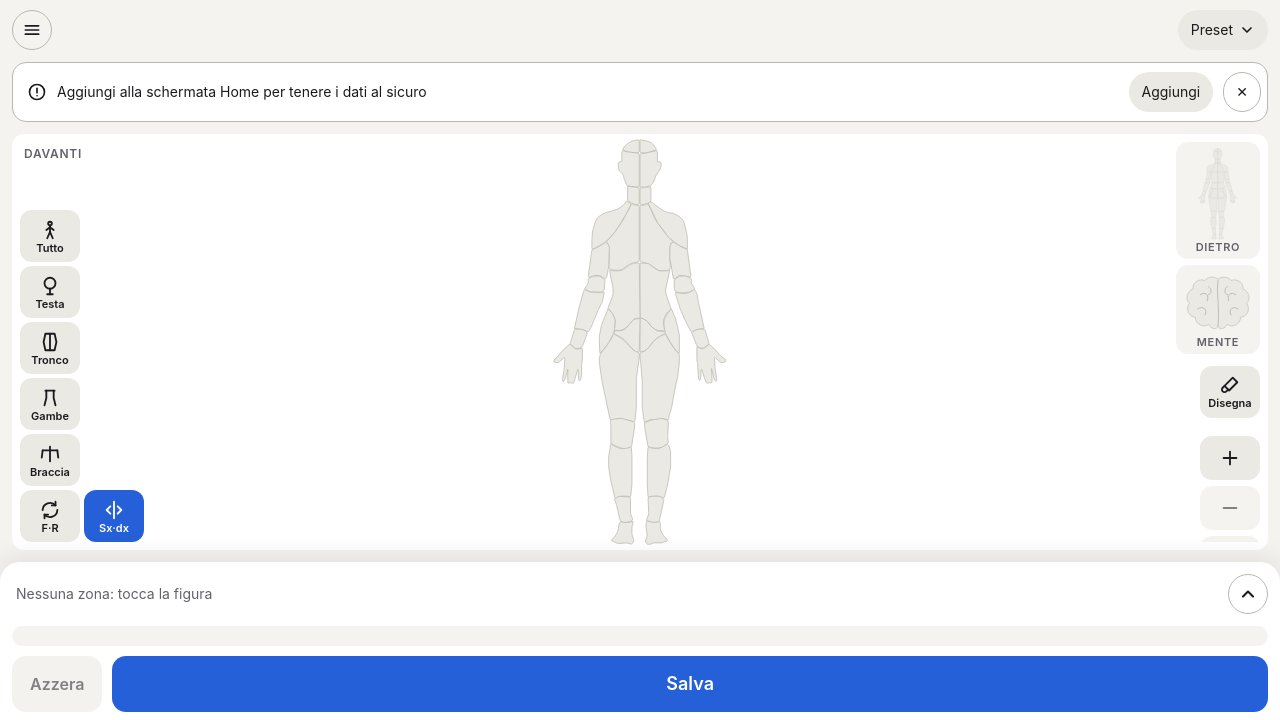
it: The stage › the kind is one switch with two halves, on its own row above a time row that keeps its caption
Step 1. Click the button named "Altro" → (1248, 594), box [1228,574,1268,614]
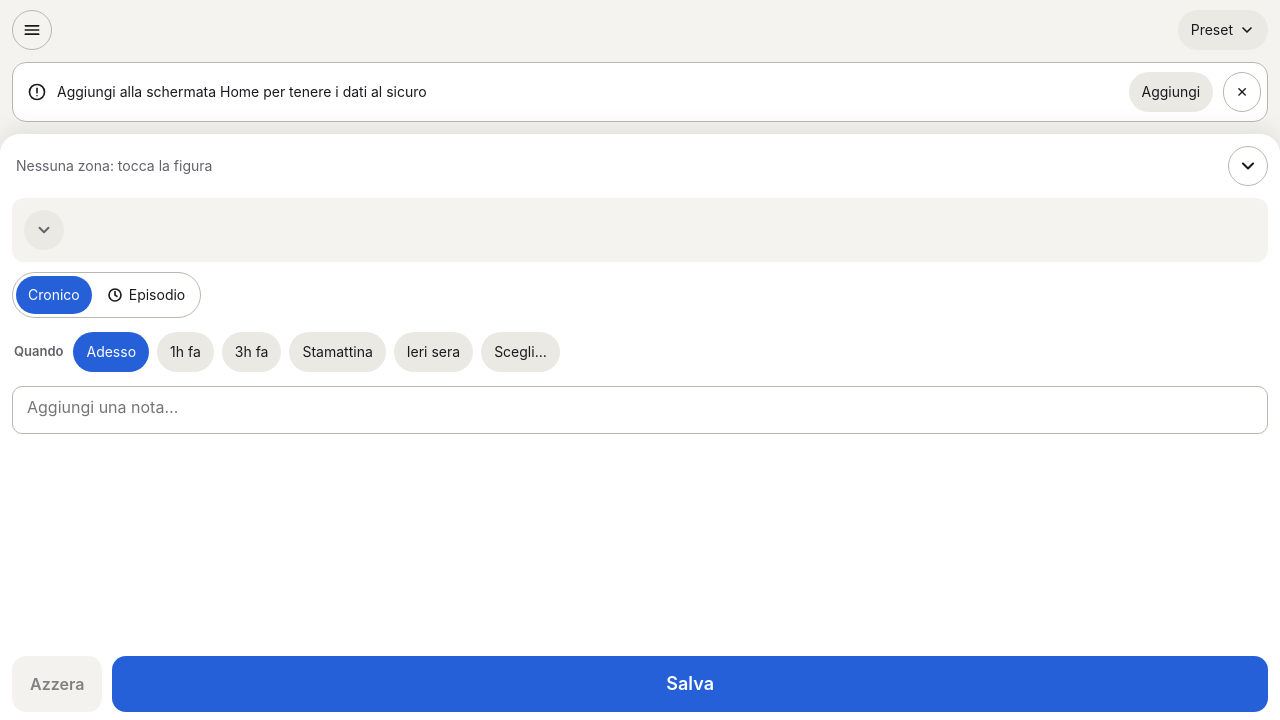
Expected: the element "Quando" is shown, [14,343,64,359]
Step 2. Click the button "Episodio" → (146, 295), box [95,276,197,314]
(page scrolled)
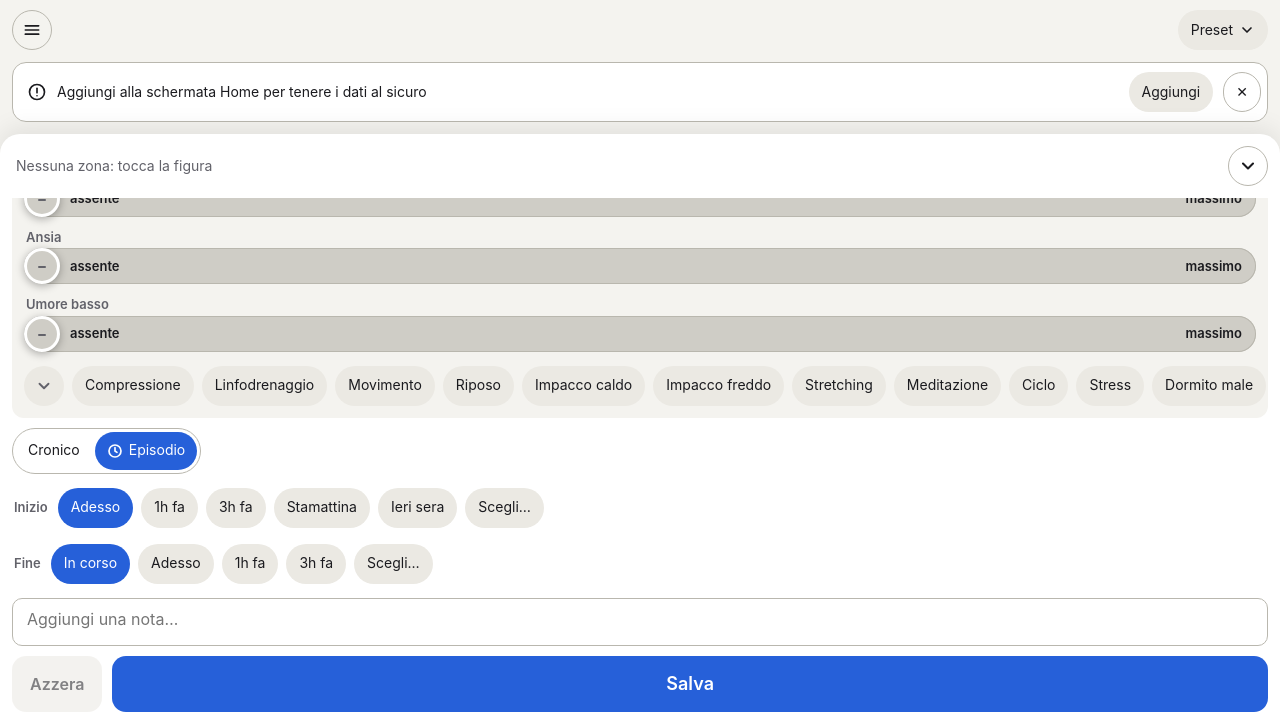
Expected: the element "Inizio" is shown, [14,499,48,515]
Expected: the element "Fine" is shown, [14,555,41,571]
Expected: the text "Quando" is gone
